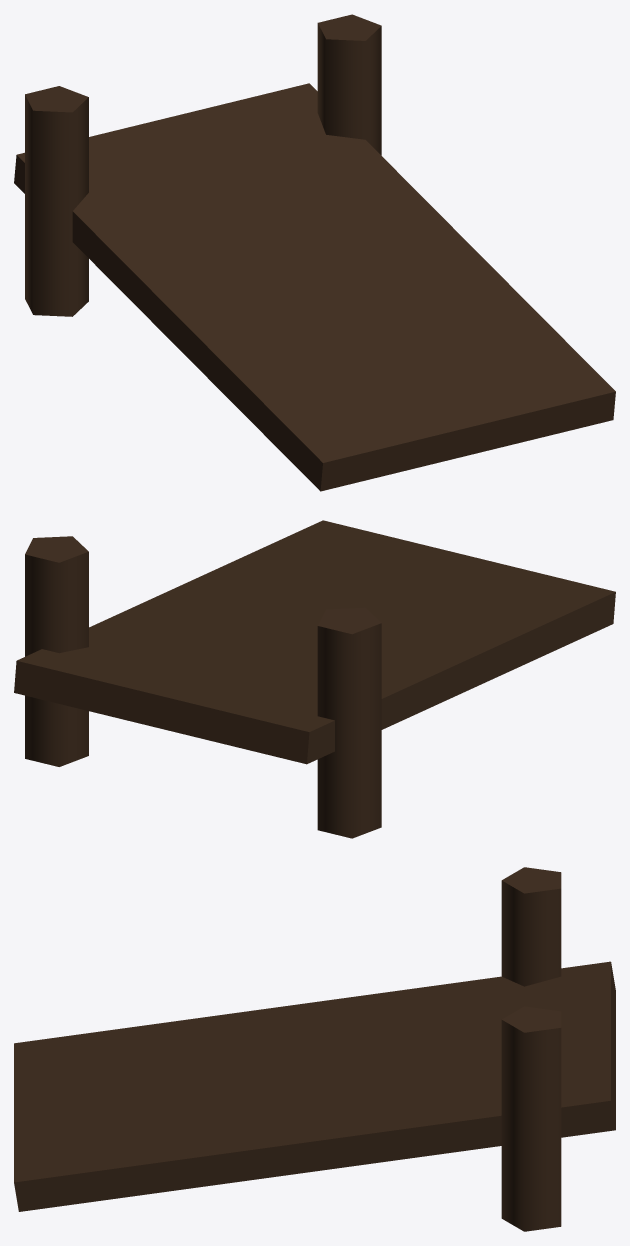
File: broken_bridge.glb
3 views of the same model, one above another, from view 1: azimuth 30°, elevation 25°; view 2: azimuth 150°, elevation 25°; view 3: azimuth 270°, elevation 25° (orthographic). The views are drawn at different scales.
Size of the model in its own units: 1.43 by 0.8 by 2.19.
